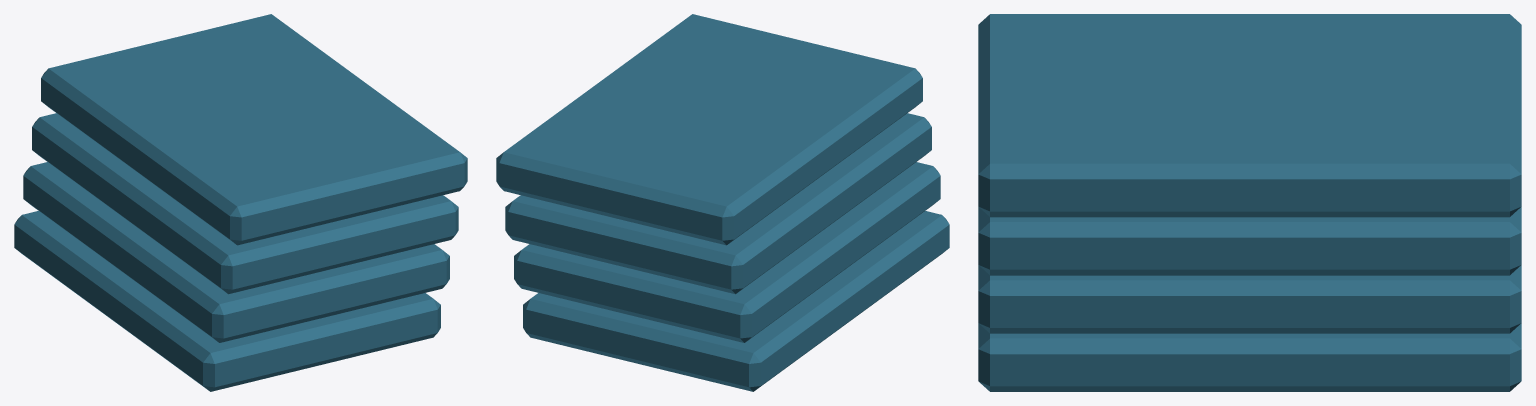
The model's file is set_archive_folder.glb.
3 views of the same model, side by side, from view 1: azimuth 30°, elevation 25°; view 2: azimuth 150°, elevation 25°; view 3: azimuth 270°, elevation 25° (orthographic). The views are drawn at different scales.
Parts seen in each view (by area): view 1: set_archive_folder; view 2: set_archive_folder; view 3: set_archive_folder.
Part boxes in pixels (x1,y1,x2,y2): set_archive_folder: (14, 14, 467, 391); set_archive_folder: (496, 14, 949, 391); set_archive_folder: (978, 14, 1521, 391).
Size of the model in its own units: 0.178 by 0.115 by 0.23.
